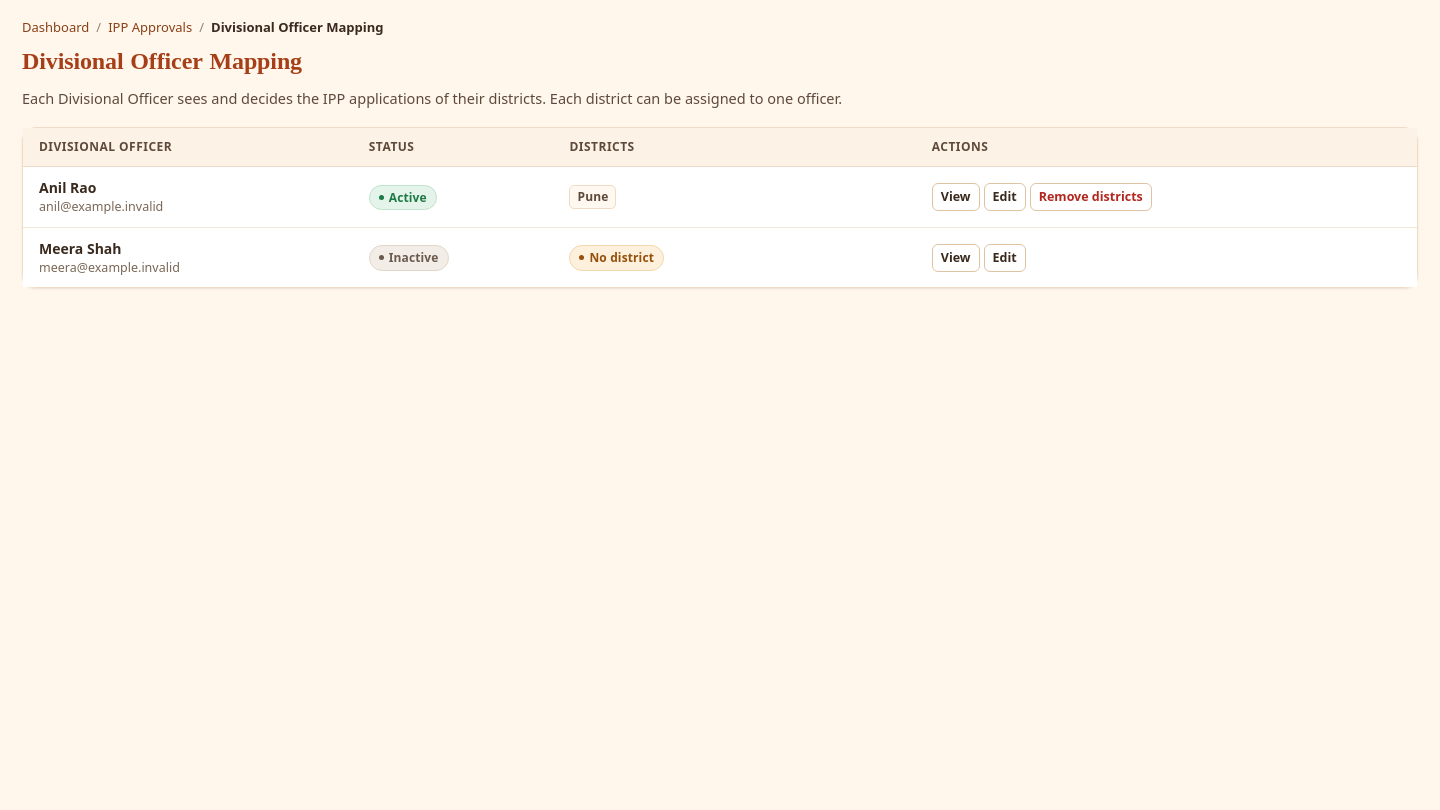
Test: Divisional Officer Mapping › cannot save while the districts are not loaded, and loads them again
The width and height of the screenshot is (1440, 810).
Click the button named "Edit the districts of Anil Rao". click: (1005, 197)
box: [984, 183, 1026, 211]
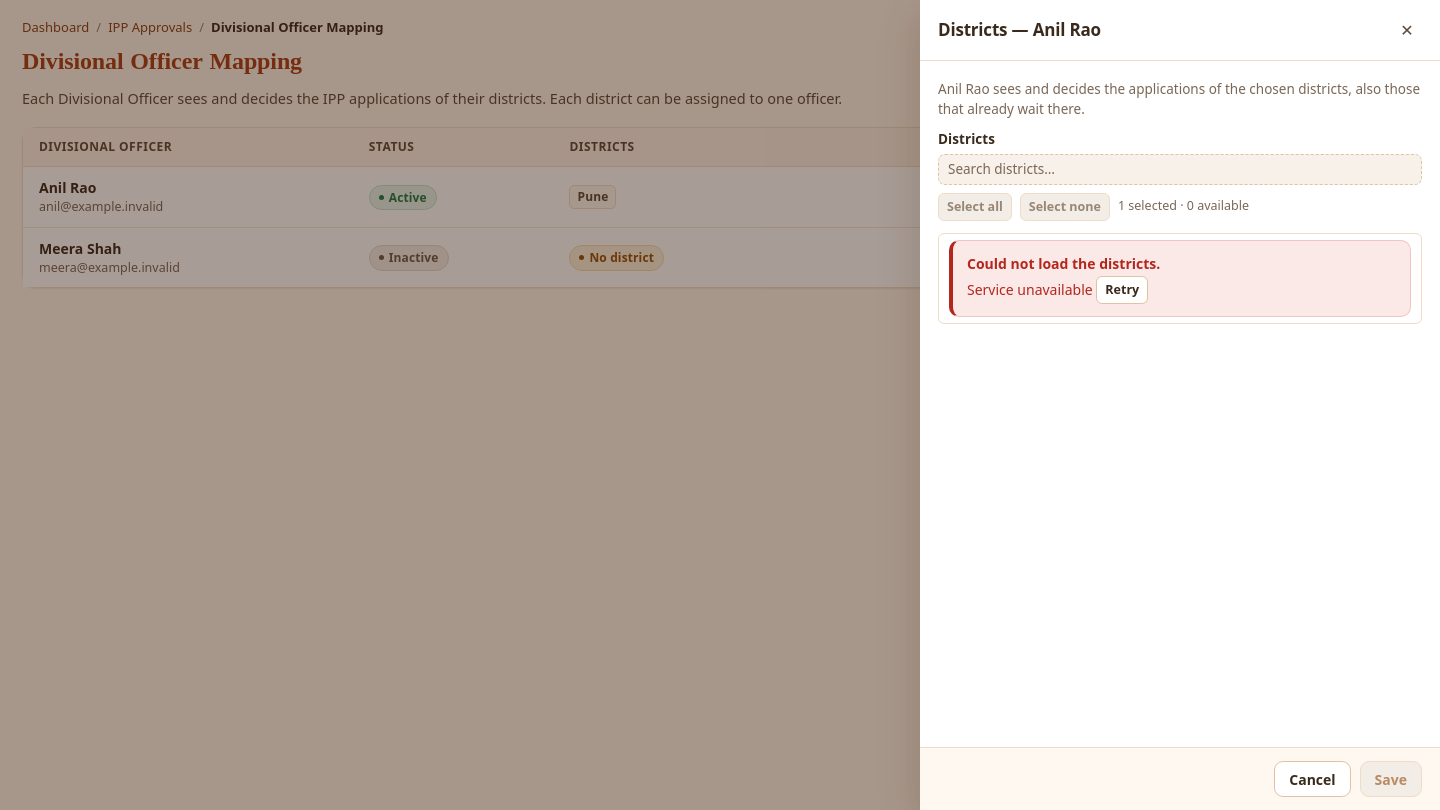
Check: the text "Could not load the districts. Service unavailable Retry" is shown, box [967, 253, 1160, 304]
Check: the button "Save" is disabled, box [1360, 761, 1422, 797]
Click the button "Retry". click: (1122, 290)
box: [1096, 276, 1148, 304]
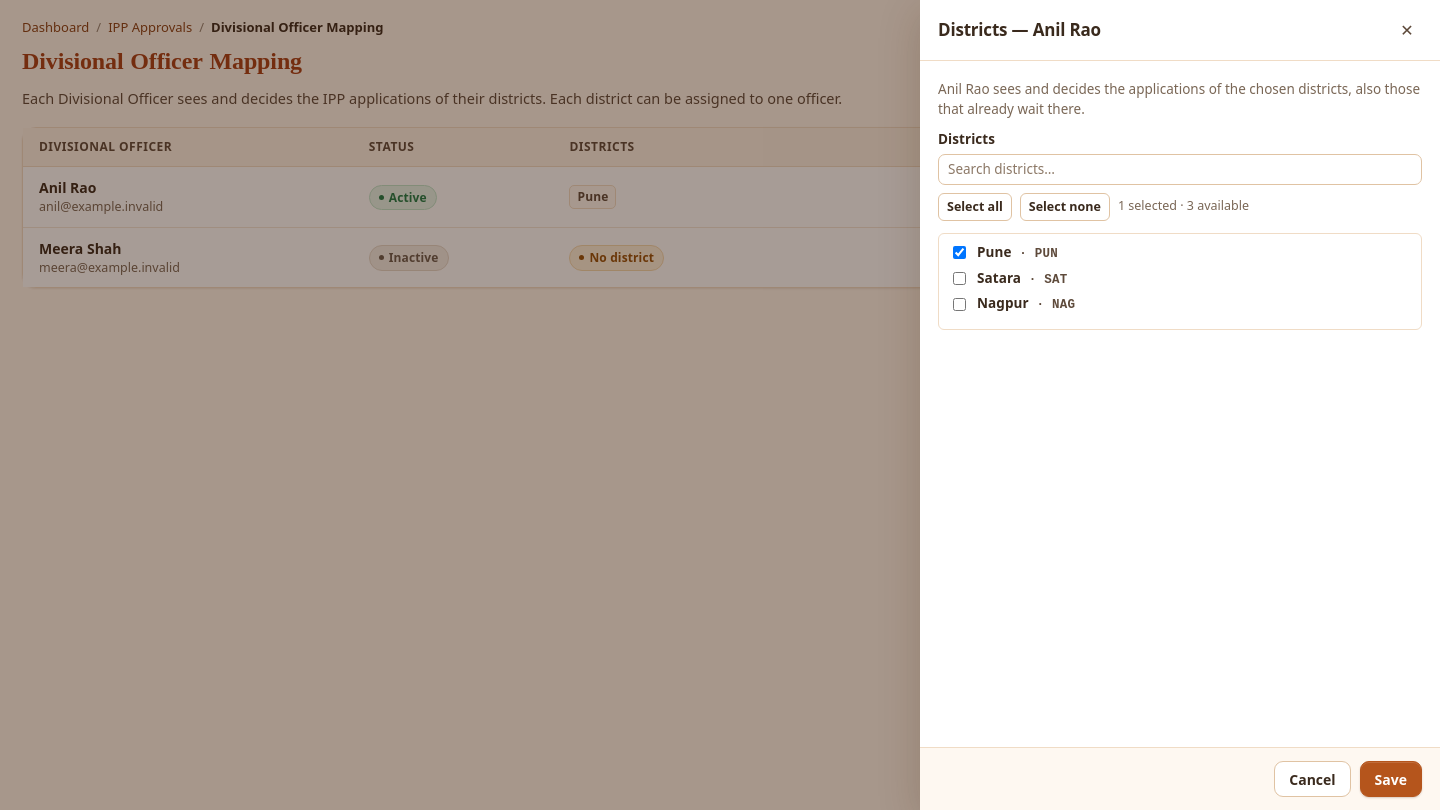
Check: the checkbox labelled "Pune · PUN" is checked, box [953, 246, 966, 259]
Check: the button "Save" is enabled, box [1360, 761, 1422, 797]
